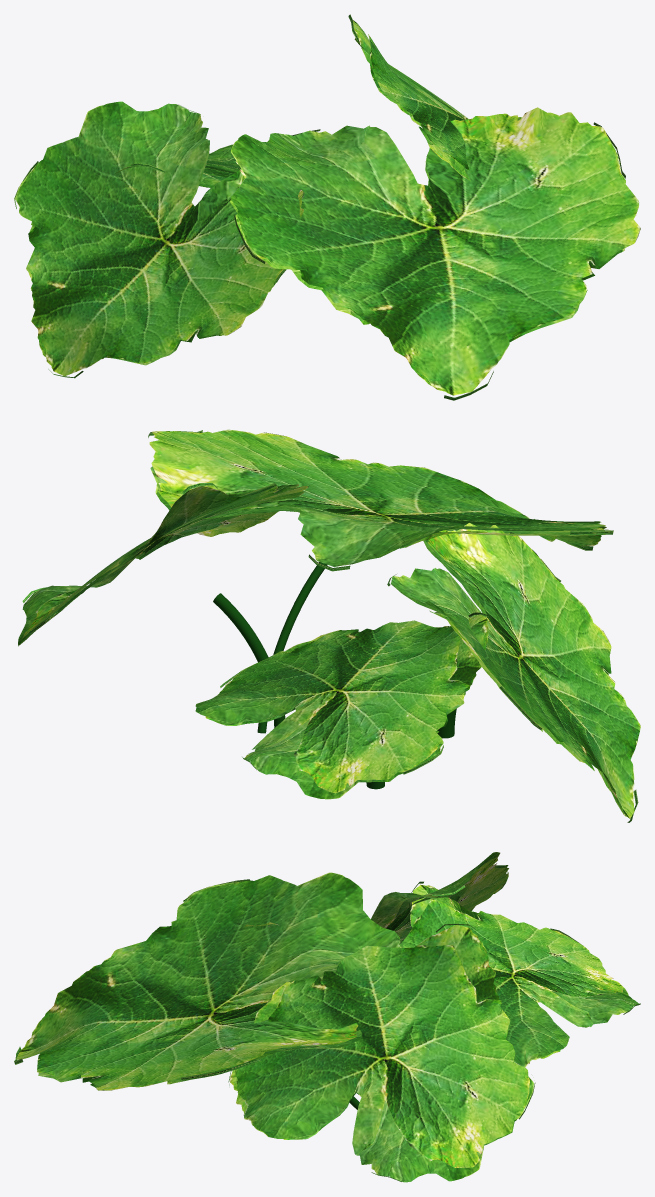
Rendered from 新生長2.FBX.
3 renders of one model, top to bottom at view 1: azimuth 30°, elevation 25°; view 2: azimuth 150°, elevation 25°; view 3: azimuth 270°, elevation 25°, orthographic. The views are drawn at different scales.
Visible parts, largest first — view 1: Box003, Box002, Box001, Box004; view 2: Box004, Box002, Box003, Box001, Cylinder003, Cylinder002; view 3: Box001, Box003, Box004, Box002.
Boxes of the visible parts, box(x1,y1,x2,y2) form: Box003: box(230, 107, 640, 400); Box002: box(14, 101, 304, 378); Box001: box(348, 14, 470, 181); Box004: box(114, 144, 240, 187); Box004: box(195, 612, 488, 799); Box002: box(387, 523, 640, 822); Box003: box(148, 429, 613, 571); Box001: box(18, 483, 308, 646); Cylinder003: box(213, 593, 285, 727); Cylinder002: box(257, 512, 366, 733); Box001: box(228, 923, 535, 1182); Box003: box(14, 872, 402, 1090); Box004: box(400, 881, 640, 1066); Box002: box(244, 852, 508, 943).
Bounding box in the file's own units: 44.54 × 19.77 × 45.89.
2 materials, 1 textured.
